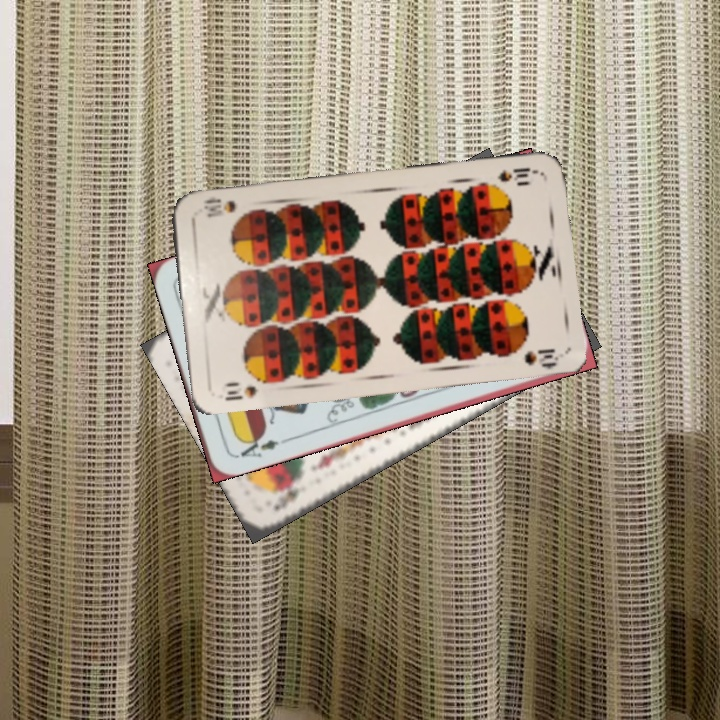EA: (231, 431, 282, 461)
S10: (219, 378, 260, 403), (494, 163, 540, 185)
SK: (269, 483, 301, 513)
